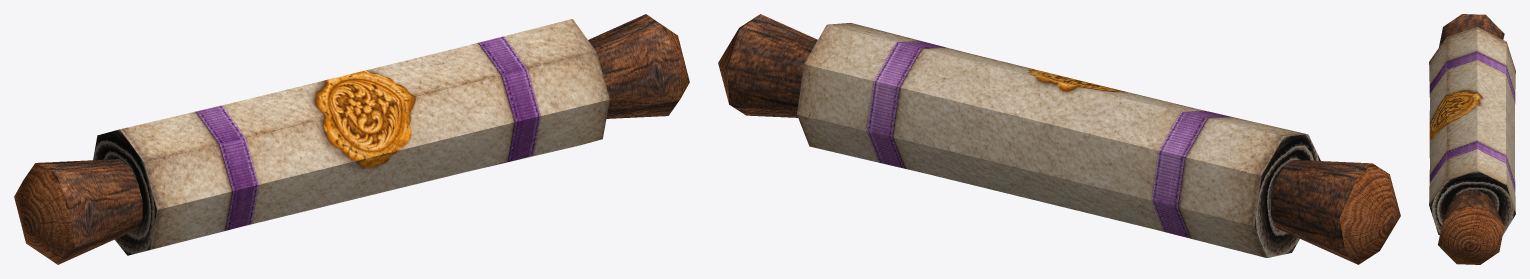
Rendered from mm9_deco_writ.glb.
3 renders of one model, left to right at view 1: azimuth 30°, elevation 25°; view 2: azimuth 150°, elevation 25°; view 3: azimuth 270°, elevation 25°, orthographic. The views are drawn at different scales.
Parts seen in each view (by area): view 1: Writ; view 2: Writ; view 3: Writ.
Part boxes in pixels (x1,y1,x2,y2): Writ: (14,14,689,264); Writ: (718,14,1400,264); Writ: (1429,14,1515,264).
Bounding box in the file's own units: 0.7358 × 0.1295 × 0.1295.
Materials: 2 (2 with a texture image).
